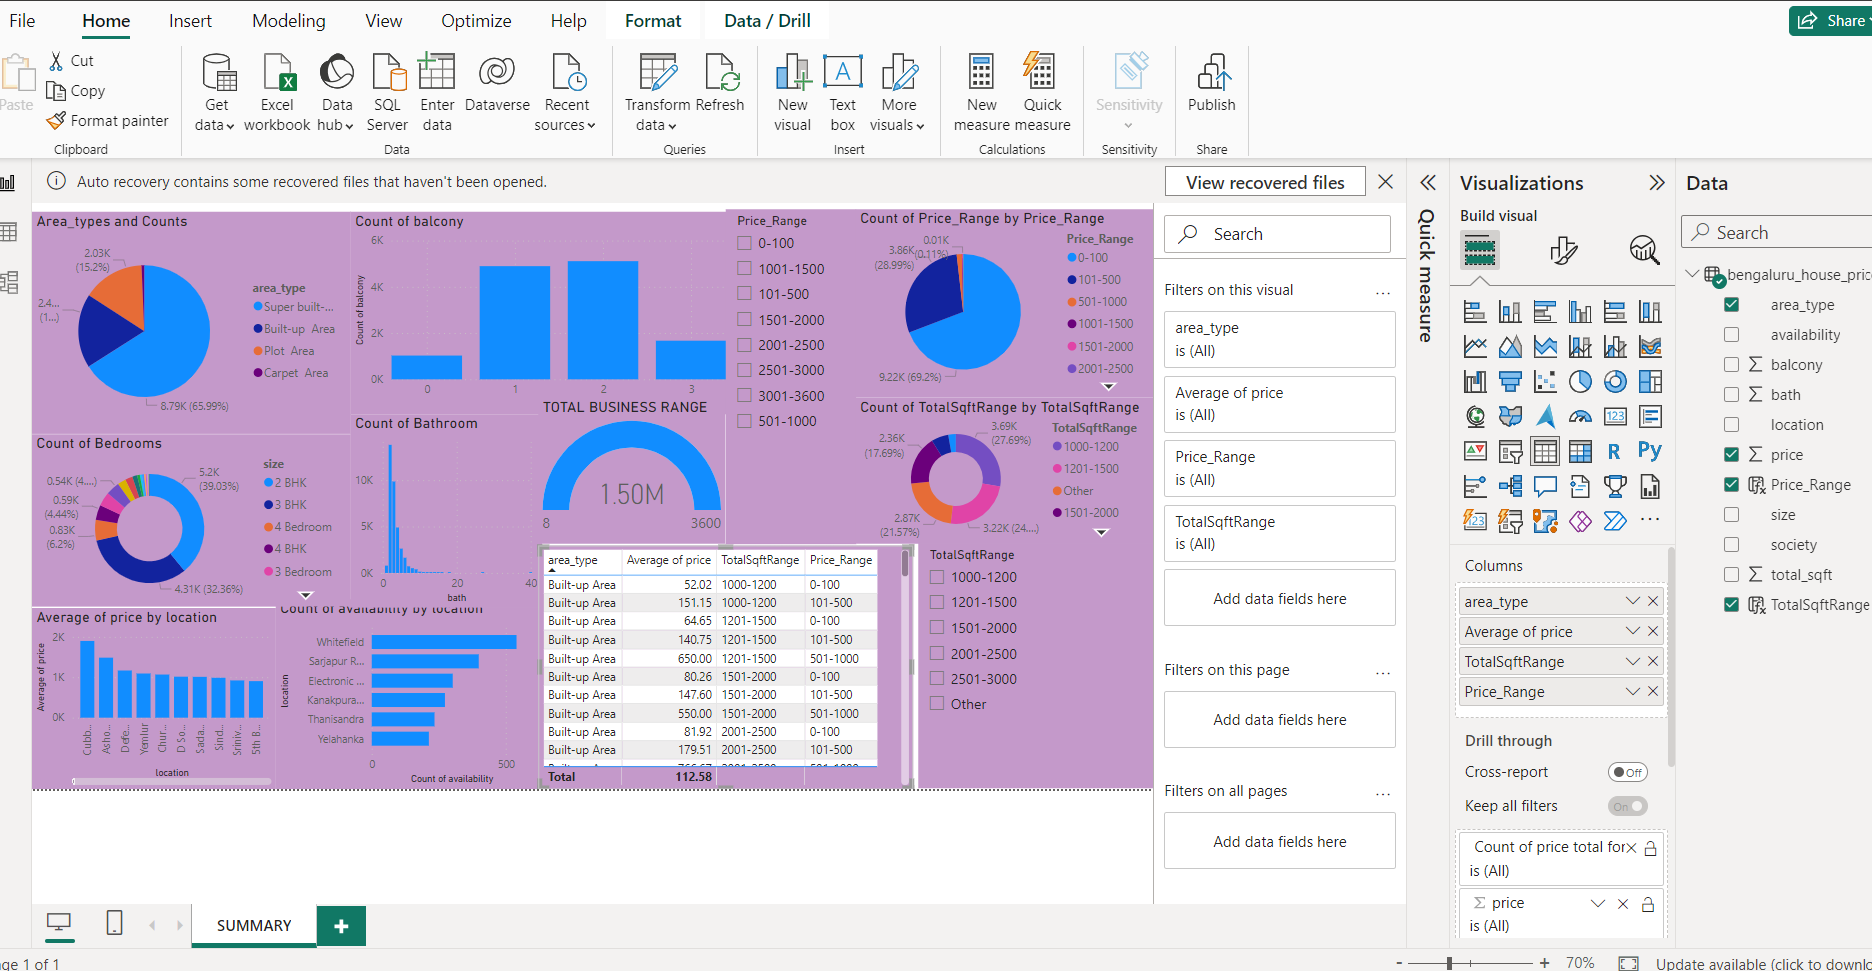

The page's visual inventory and layout, read from the dashboard file:
{"tool":"powerbi","page":{"name":"SUMMARY","canvas":[1280,720],"ordinal":0},"visuals":[{"type":"clusteredBarChart","fields":{"Category":["bengaluru_house_prices.location"],"Y":["CountNonNull(bengaluru_house_prices.availability)"]},"box":[278,503.2,316.4,216.7],"z":0},{"type":"lineStackedColumnComboChart","fields":{"Category":["bengaluru_house_prices.location"],"Y":["Avg(bengaluru_house_prices.price)"]},"box":[0,513.2,278.6,207.2],"z":1},{"type":"pieChart","title":"Area_types and Counts","fields":{"Y":["CountNonNull(bengaluru_house_prices.area_type)"],"Category":["bengaluru_house_prices.area_type"]},"box":[0,61.7,363.6,253.9],"z":2},{"type":"donutChart","title":"Count of Bedrooms","fields":{"Y":["CountNonNull(bengaluru_house_prices.size)"],"Category":["bengaluru_house_prices.size"]},"box":[0,326,364,187],"z":3},{"type":"columnChart","title":"Count of balcony ","fields":{"Category":["bengaluru_house_prices.balcony"],"Y":["CountNonNull(bengaluru_house_prices.balcony)"]},"box":[363.6,46.7,428.1,245.6],"z":4},{"type":"columnChart","title":"Count of Bathroom","fields":{"Category":["bengaluru_house_prices.bath"],"Y":["Sum(bengaluru_house_prices.bath)"]},"box":[352.1,326.4,230.9,148.2],"z":5},{"type":"tableEx","fields":{"Values":["bengaluru_house_prices.area_type","Avg(bengaluru_house_prices.price)","bengaluru_house_prices.TotalSqftRange","bengaluru_house_prices.Price_Range"]},"box":[583.6,440.9,428.1,278.3],"z":6},{"type":"actionButton","box":[0,0,100,40],"z":7},{"type":"gauge","fields":{"Y":["Sum(bengaluru_house_prices.price)"],"MinValue":["Min(bengaluru_house_prices.price)"],"MaxValue":["Max(bengaluru_house_prices.price)"]},"box":[577.3,273.7,213.8,166.8],"z":8},{"type":"slicer","fields":{"Values":["bengaluru_house_prices.Price_Range"]},"box":[792,58.5,148.4,382.4],"z":9},{"type":"slicer","fields":{"Values":["bengaluru_house_prices.TotalSqftRange"]},"box":[1011.7,401,241.2,318.2],"z":10},{"type":"pieChart","title":"Average of total_sqft by TotalSqftPriceRange","fields":{"Y":["Avg(bengaluru_house_prices.total_sqft)"],"Category":["bengaluru_house_prices.TotalSqftRange"]},"box":[940.4,58.5,312.5,342.5],"z":11}]}

Visuals, with their boxes on the page's 1280x720 design canvas (x1, y1, x2, y2). These are canvas units, not pixel positions in the 1872x971 screenshot, which may show the page scaled, cropped or inside an application window:
clusteredBarChart - bengaluru_house_prices.location x CountNonNull(bengaluru_house_prices.availability): box=[278, 503, 594, 720]
lineStackedColumnComboChart - bengaluru_house_prices.location x Avg(bengaluru_house_prices.price): box=[0, 513, 279, 720]
"Area_types and Counts" pieChart: box=[0, 62, 364, 316]
"Count of Bedrooms" donutChart: box=[0, 326, 364, 513]
"Count of balcony " columnChart: box=[364, 47, 792, 292]
"Count of Bathroom" columnChart: box=[352, 326, 583, 475]
tableEx - bengaluru_house_prices.area_type x Avg(bengaluru_house_prices.price): box=[584, 441, 1012, 719]
actionButton: box=[0, 0, 100, 40]
gauge - Sum(bengaluru_house_prices.price) x Min(bengaluru_house_prices.price): box=[577, 274, 791, 440]
slicer - bengaluru_house_prices.Price_Range: box=[792, 58, 940, 441]
slicer - bengaluru_house_prices.TotalSqftRange: box=[1012, 401, 1253, 719]
"Average of total_sqft by TotalSqftPriceRange" pieChart: box=[940, 58, 1253, 401]
